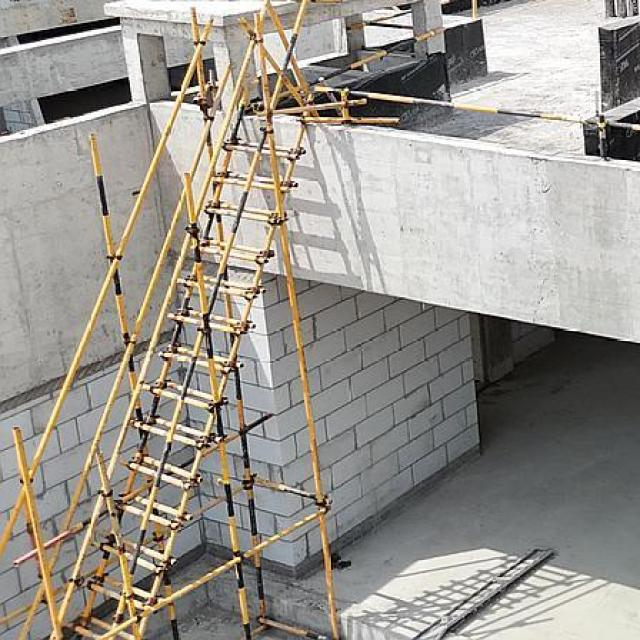Guardrail: (310, 85, 640, 159), (275, 27, 446, 102)
